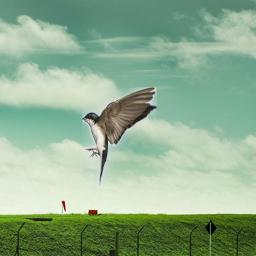Swallow: (82, 87, 157, 186)
